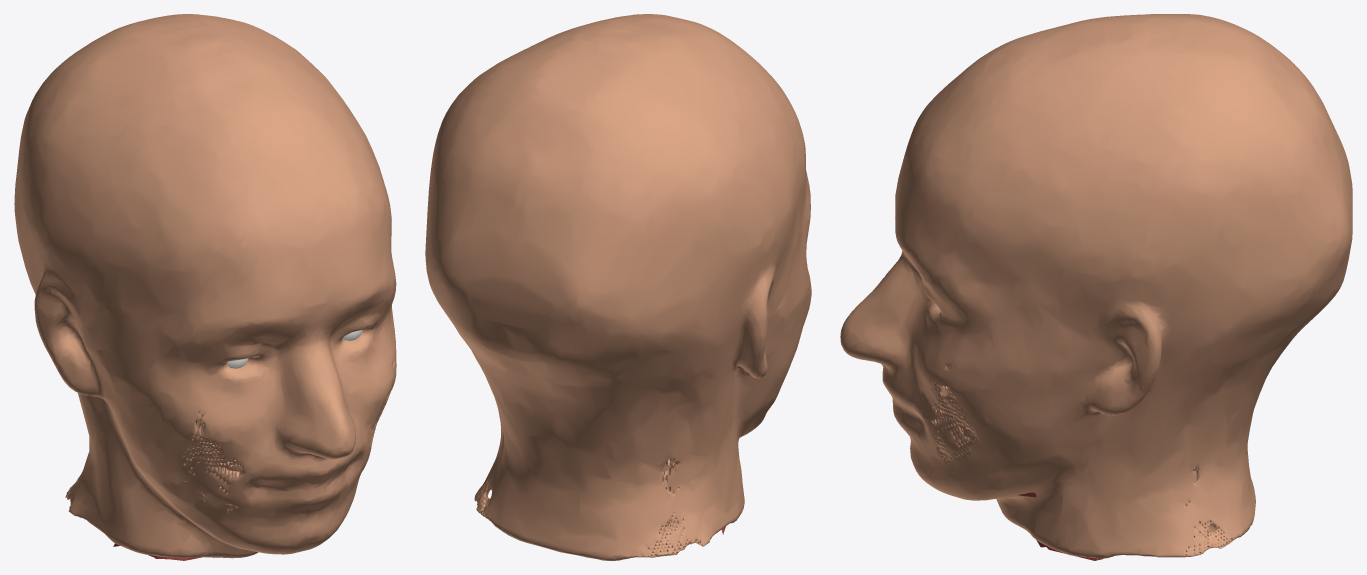
Rendered from head.glb.
The picture shows the model from 3 angles, left to right: view 1: azimuth 30°, elevation 25°; view 2: azimuth 150°, elevation 25°; view 3: azimuth 270°, elevation 25°; orthographic projection. The views are drawn at different scales.
Visible parts, largest first — view 1: skin; view 2: skin; view 3: skin.
Part boxes in pixels (x1,y1,x2,y2): skin: (14,14,396,558); skin: (425,14,811,560); skin: (840,14,1352,558).
Bounding box in the file's own units: 0.1678 × 0.2425 × 0.2289.
